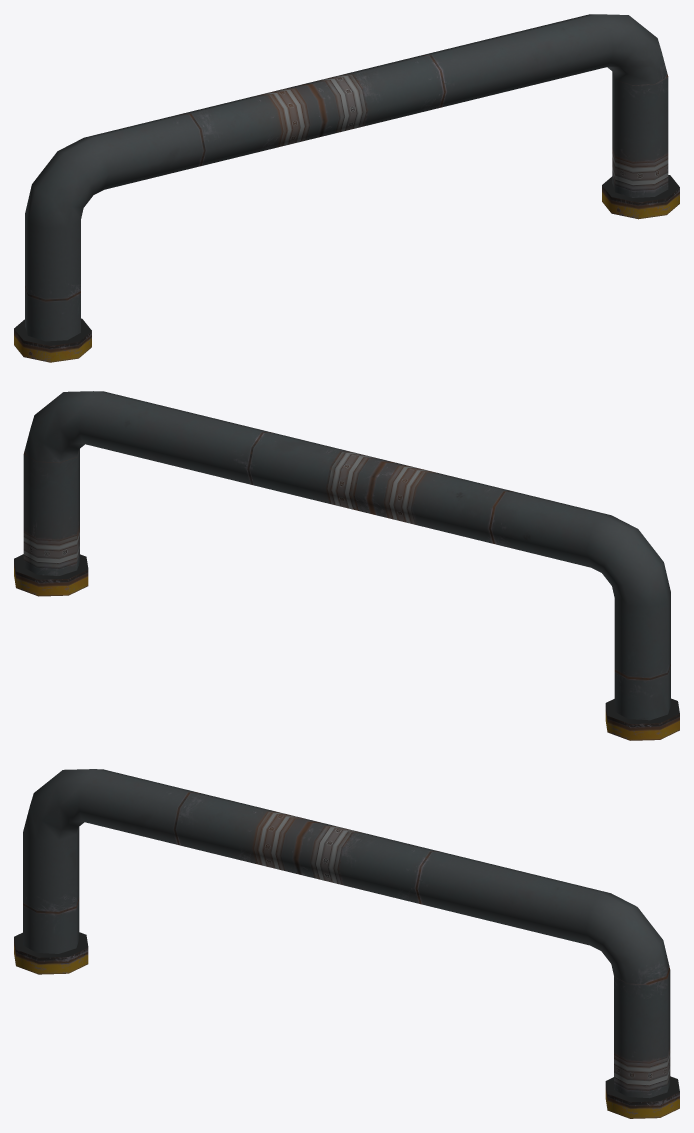
The model's file is Wall3_Pipe1_L1.fbx.
3 renders of one model, top to bottom at view 1: azimuth 30°, elevation 25°; view 2: azimuth 150°, elevation 25°; view 3: azimuth 330°, elevation 25°, orthographic.
Parts seen in each view (by area): view 1: Wall3_Pipe1_L1; view 2: Wall3_Pipe1_L1; view 3: Wall3_Pipe1_L1.
Part boxes in pixels (x1,y1,x2,y2): Wall3_Pipe1_L1: (14,14,679,362); Wall3_Pipe1_L1: (14,391,679,740); Wall3_Pipe1_L1: (14,769,679,1118).
Bounding box in the file's own units: 325 × 94.42 × 33.02.
